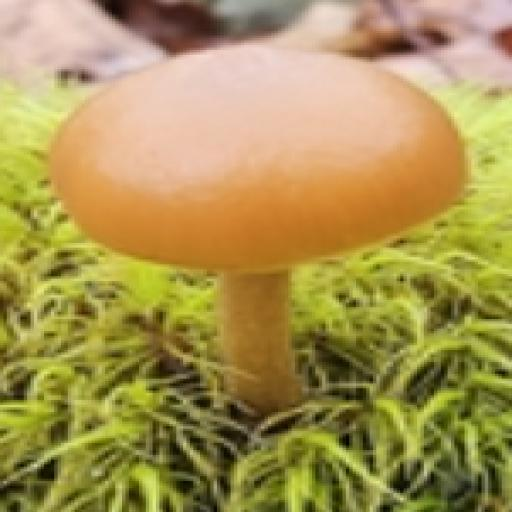Funeral Bell: (34, 40, 488, 428)
